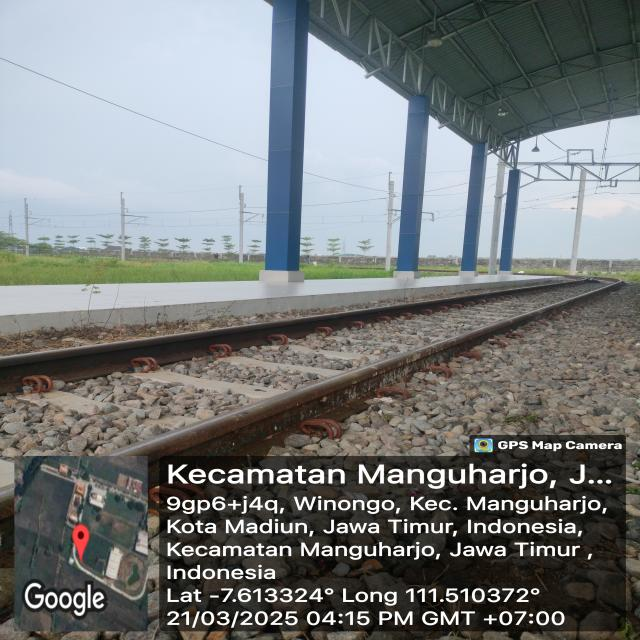rail-detection: (114, 280, 622, 460), (0, 281, 585, 393), (559, 280, 620, 308)
